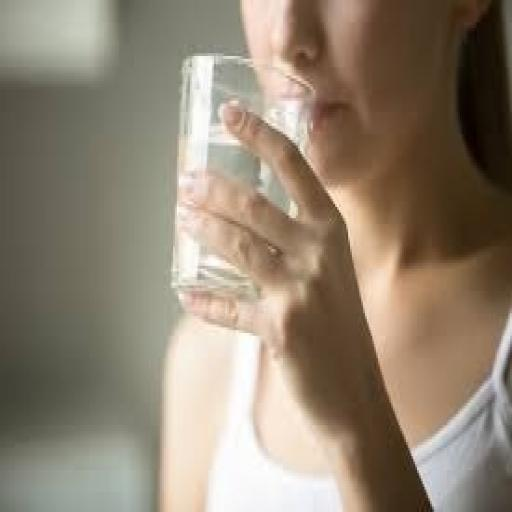drinking: (168, 50, 314, 310)
